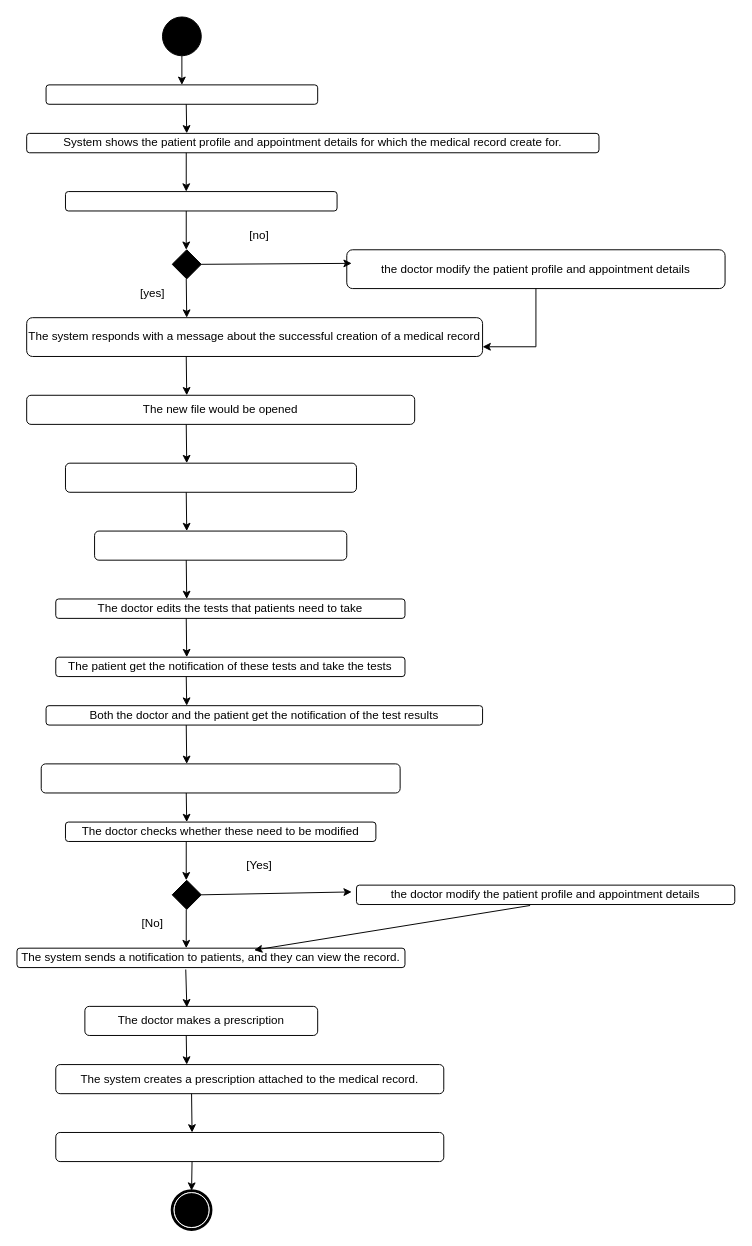
Image size: 752x1246. Some labels were removed from this diagram. Here are the shapes that lost their labels. From the top down, the centre of each, then its label:
At point 181,94: "The doctor creates a new medical record file".
At point 201,201: "The doctor checks whether these are correct".
At point 210,477: "A doctor can edit the file during the appointment".
At point 220,545: "The system would update the file".
At point 220,778: "After the meeting, the doctor checks the medical records.".
At point 249,1147: "The system send a notification to patient about the prescription".
